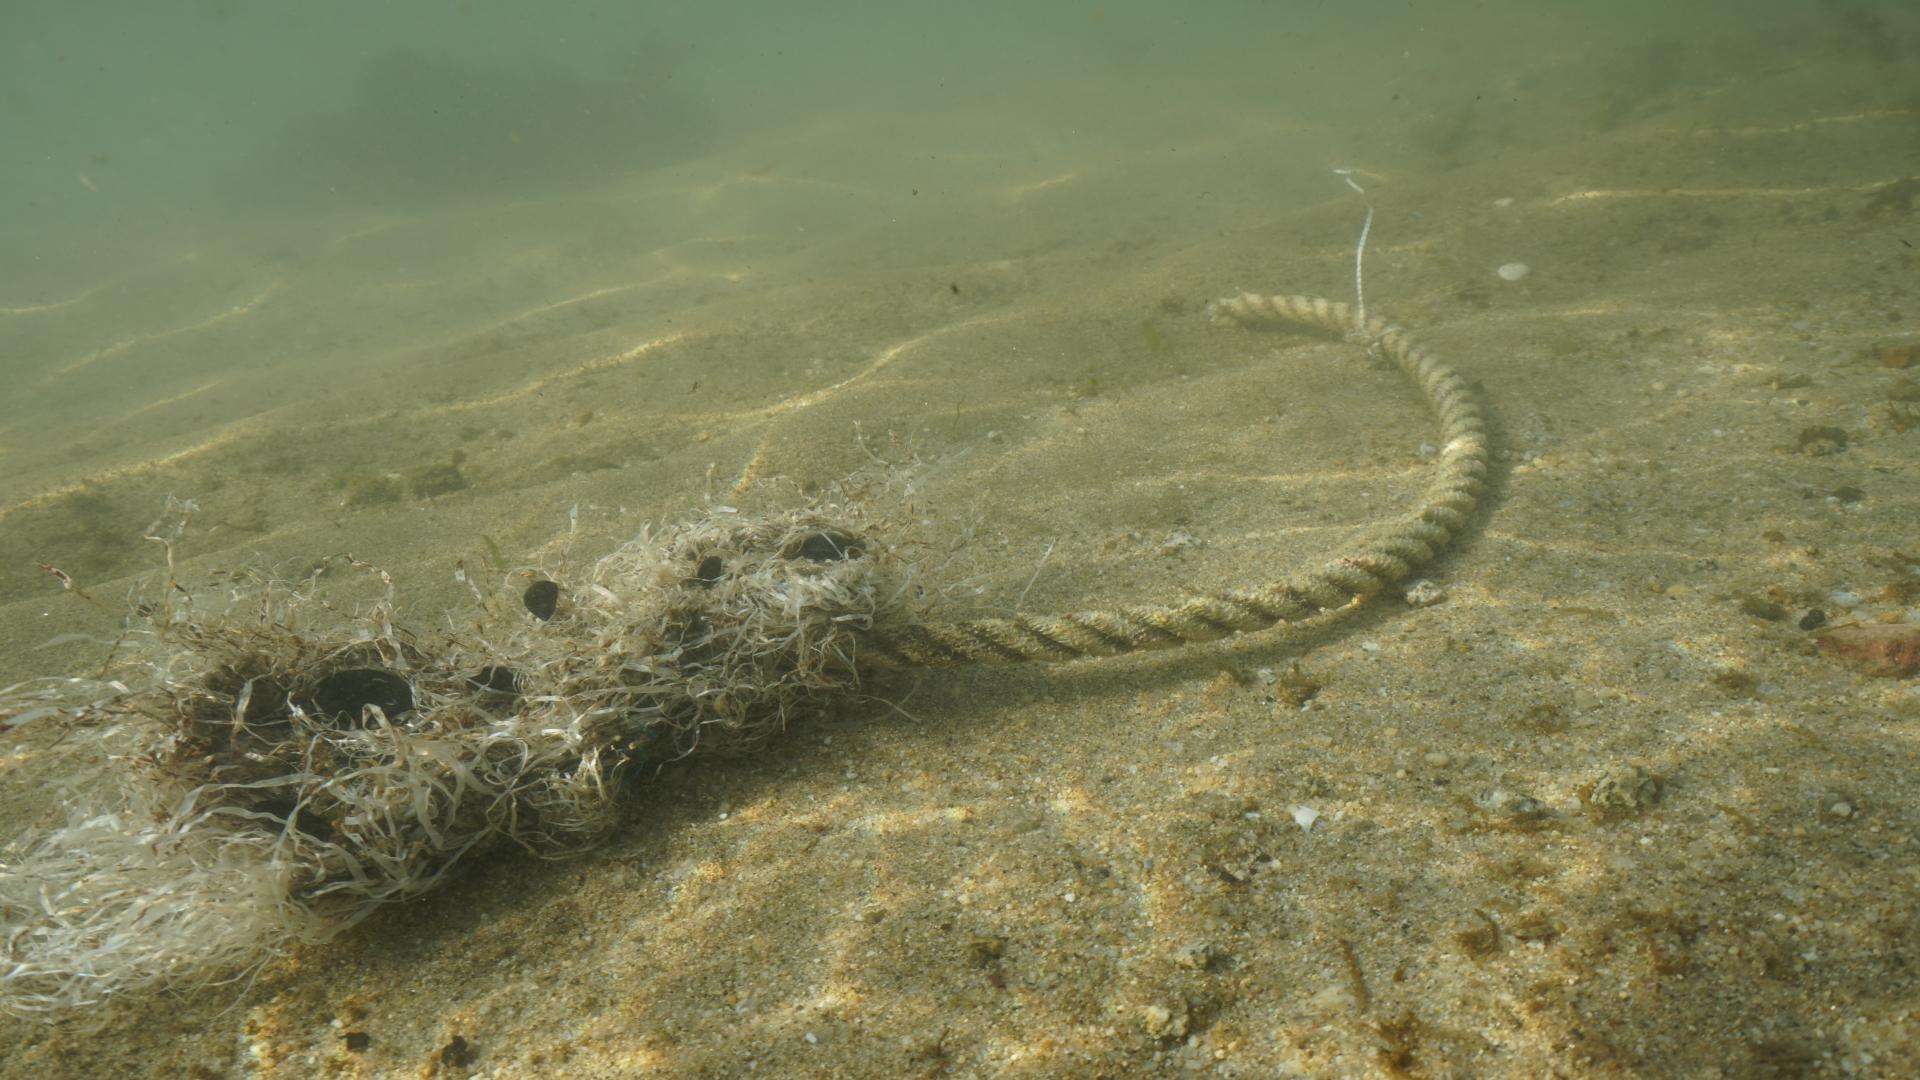rope: (837, 280, 1506, 678)
